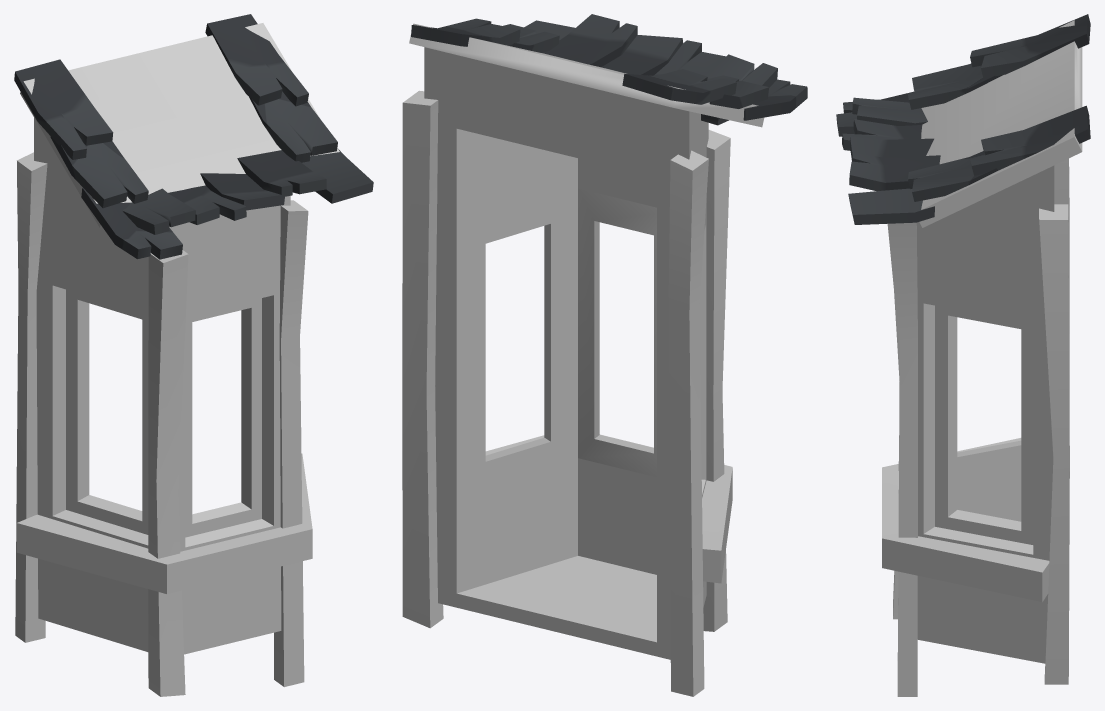
Rendered from SM_Bld_Window_Bay_01.fbx.
3 views of the same model, side by side, from view 1: azimuth 30°, elevation 25°; view 2: azimuth 150°, elevation 25°; view 3: azimuth 270°, elevation 25° (orthographic). The views are drawn at different scales.
Parts seen in each view (by area): view 1: SM_Bld_Window_Bay_01; view 2: SM_Bld_Window_Bay_01; view 3: SM_Bld_Window_Bay_01.
Part boxes in pixels (x1,y1,x2,y2): SM_Bld_Window_Bay_01: (14,14,373,696); SM_Bld_Window_Bay_01: (402,14,807,696); SM_Bld_Window_Bay_01: (836,14,1090,696).
Size of the model in its own units: 206 by 408 by 159.
